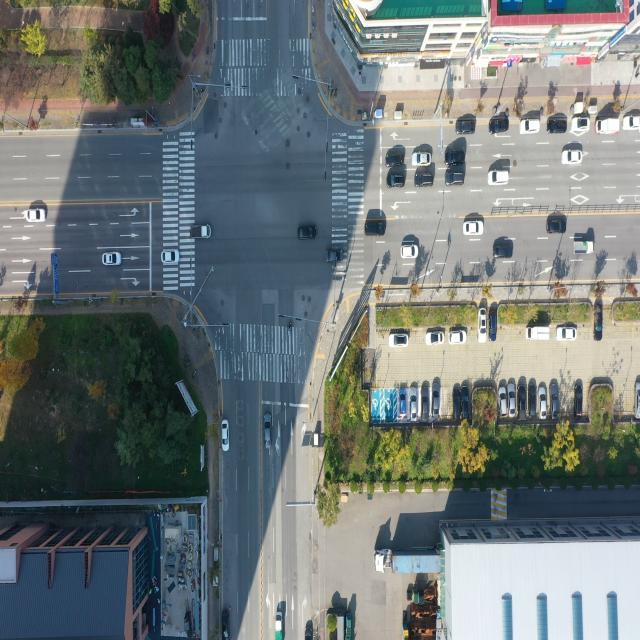car: (593, 300, 603, 338), (507, 382, 517, 419), (388, 332, 410, 348), (489, 170, 509, 187), (411, 152, 432, 168), (364, 221, 386, 236), (452, 388, 462, 421), (519, 384, 528, 420), (551, 384, 560, 420), (464, 220, 484, 236), (562, 149, 582, 165), (557, 325, 577, 341), (27, 208, 48, 223), (462, 382, 471, 417), (528, 384, 537, 418), (431, 384, 440, 418), (300, 224, 319, 240), (162, 249, 181, 265), (520, 118, 540, 133), (489, 118, 509, 133), (446, 149, 465, 164), (480, 308, 488, 343), (421, 385, 429, 420), (494, 245, 513, 259), (220, 419, 228, 451), (411, 388, 419, 420), (489, 310, 497, 342), (574, 385, 582, 417), (623, 115, 640, 130), (402, 245, 419, 260), (104, 252, 122, 266), (387, 174, 405, 188), (571, 117, 589, 131), (426, 333, 444, 347), (386, 154, 404, 168), (538, 386, 546, 417), (548, 120, 567, 133), (498, 386, 506, 416), (634, 380, 640, 420), (548, 220, 565, 234), (416, 174, 434, 187), (457, 123, 475, 136), (266, 414, 273, 446), (450, 332, 466, 346), (399, 389, 407, 417), (326, 250, 343, 263), (446, 173, 464, 185), (427, 329, 443, 342)
large_truck: (373, 549, 443, 578)
small_truck: (596, 119, 620, 136), (526, 324, 550, 341), (190, 223, 213, 240), (575, 241, 595, 255), (275, 610, 283, 640)
